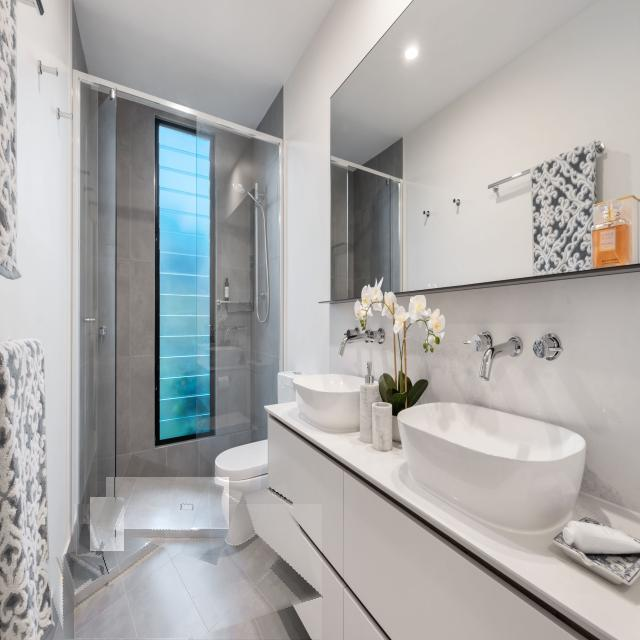floor: (75, 505, 322, 639), (107, 478, 229, 529), (91, 498, 124, 551), (77, 524, 104, 556)
